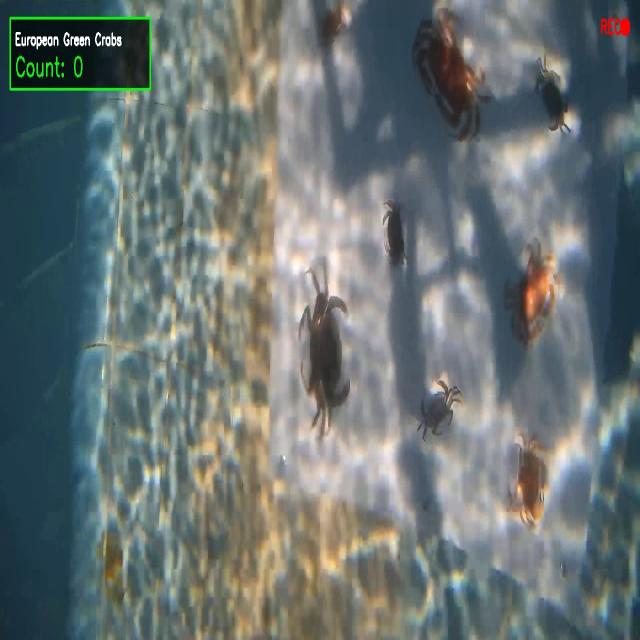European_Green_Crab: (282, 246, 359, 455), (524, 46, 579, 150), (409, 365, 467, 455)
